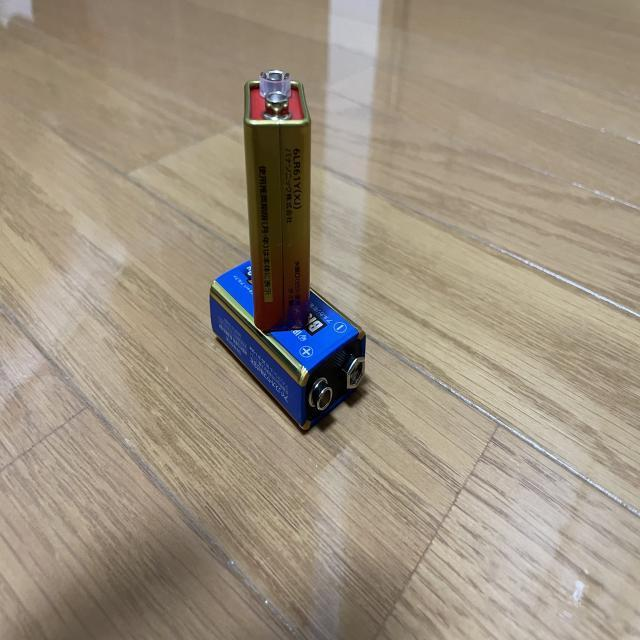9V: (210, 256, 366, 431), (242, 70, 311, 332)
